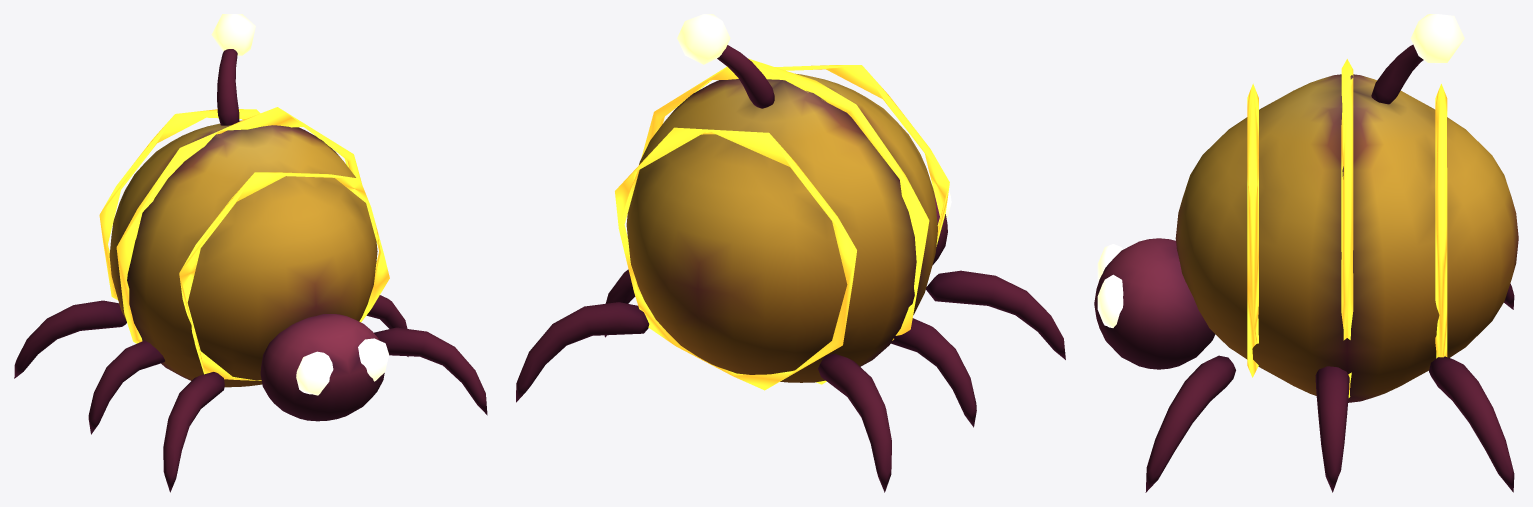
File: bloater.glb
The picture shows the model from 3 angles, left to right: view 1: azimuth 30°, elevation 25°; view 2: azimuth 150°, elevation 25°; view 3: azimuth 270°, elevation 25°; orthographic projection. The views are drawn at different scales.
Parts seen in each view (by area): view 1: bloater_abd, bloater_head, bloater_seam.001, bloater_seam, bloater_leg.002_R, bloater_leg, bloater_leg_R, bloater_seam.002, bloater_leg.001_R, bloater_wick, bloater_spark, eyeR (+2 smaller); view 2: bloater_abd, bloater_seam.002, bloater_seam.001, bloater_leg_R, bloater_leg.002, bloater_leg.002_R, bloater_leg.001_R, bloater_seam, bloater_spark, bloater_wick, bloater_leg.001; view 3: bloater_abd, bloater_head, bloater_leg, bloater_leg.002, bloater_seam.001, bloater_seam.002, bloater_seam, bloater_leg.001, bloater_spark, bloater_wick, eyeL.
Boxes of the visible parts, box(x1,y1,x2,y2) form: bloater_abd: box(109, 120, 377, 387); bloater_head: box(260, 314, 384, 421); bloater_seam.001: box(116, 107, 361, 343); bloater_seam: box(179, 172, 389, 380); bloater_leg.002_R: box(14, 300, 126, 378); bloater_leg: box(374, 327, 487, 415); bloater_leg_R: box(163, 372, 224, 492); bloater_seam.002: box(99, 109, 260, 300); bloater_leg.001_R: box(88, 340, 164, 434); bloater_wick: box(217, 49, 239, 125); bloater_spark: box(211, 14, 255, 55); eyeR: box(296, 351, 333, 395); bloater_abd: box(626, 73, 937, 382); bloater_seam.002: box(615, 127, 856, 390); bloater_seam.001: box(641, 58, 929, 384); bloater_leg_R: box(926, 270, 1065, 359); bloater_leg.002: box(516, 302, 649, 402); bloater_leg.002_R: box(818, 353, 891, 492); bloater_leg.001_R: box(891, 318, 976, 427); bloater_seam: box(775, 65, 949, 303); bloater_spark: box(677, 14, 730, 64); bloater_wick: box(717, 45, 774, 108); bloater_leg.001: box(604, 269, 635, 337); bloater_abd: box(1175, 74, 1518, 402); bloater_head: box(1094, 238, 1215, 369); bloater_leg: box(1145, 355, 1235, 492); bloater_leg.002: box(1429, 356, 1514, 492); bloater_seam.001: box(1341, 59, 1353, 397); bloater_seam.002: box(1435, 84, 1447, 358); bloater_seam: box(1247, 83, 1258, 377); bloater_leg.001: box(1315, 366, 1349, 492); bloater_spark: box(1410, 14, 1464, 63); bloater_wick: box(1371, 44, 1423, 104); eyeL: box(1097, 274, 1123, 327).
Bounding box in the file's own units: 1.21 × 1.23 × 1.17.
